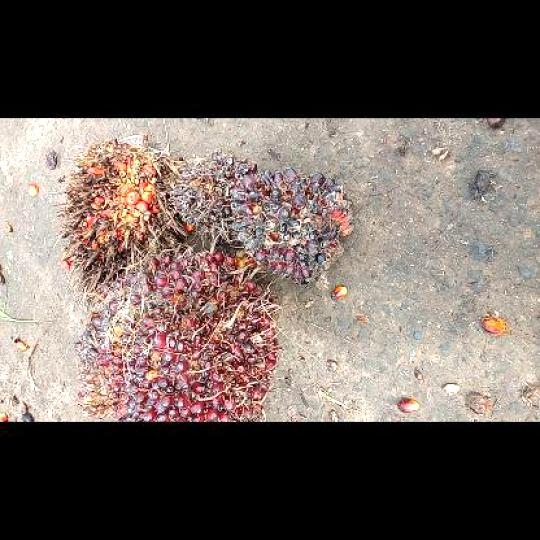masak: (72, 242, 281, 420)
terlalu masak: (53, 129, 183, 315)
